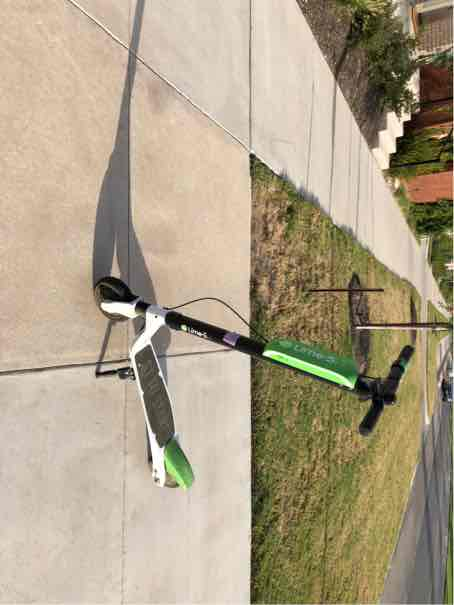scooter: (80, 275, 404, 491)
